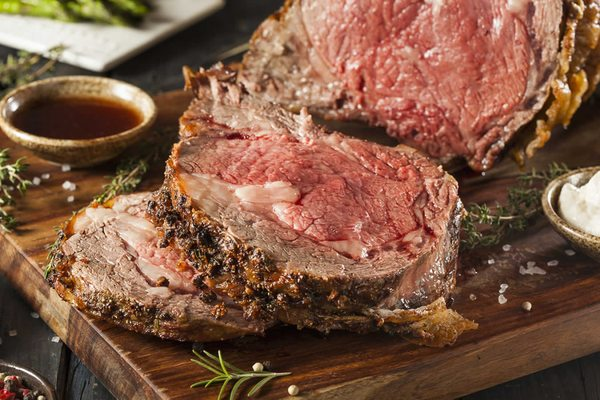soup: (46, 62, 493, 345)
sushi: (0, 74, 158, 169), (541, 164, 600, 264)
